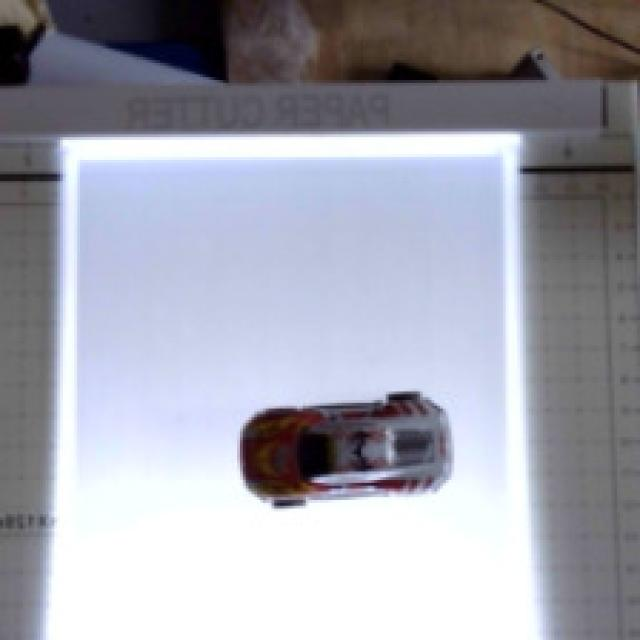Red Car: (189, 342, 474, 559)
